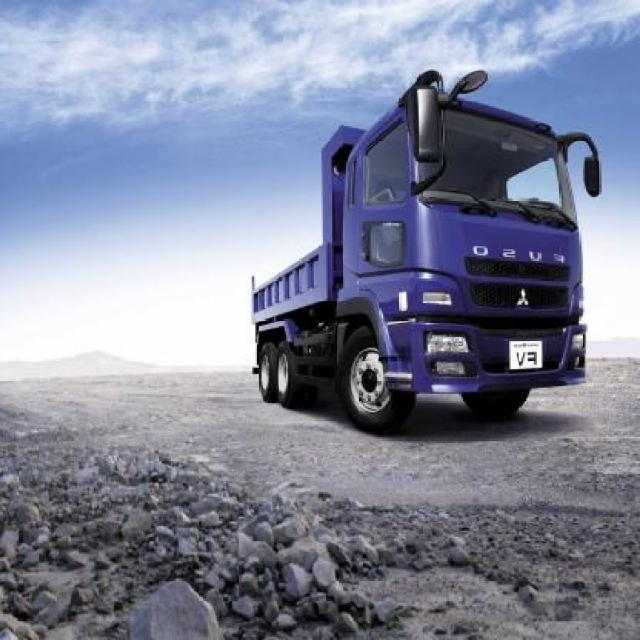truck: (249, 67, 602, 429)
